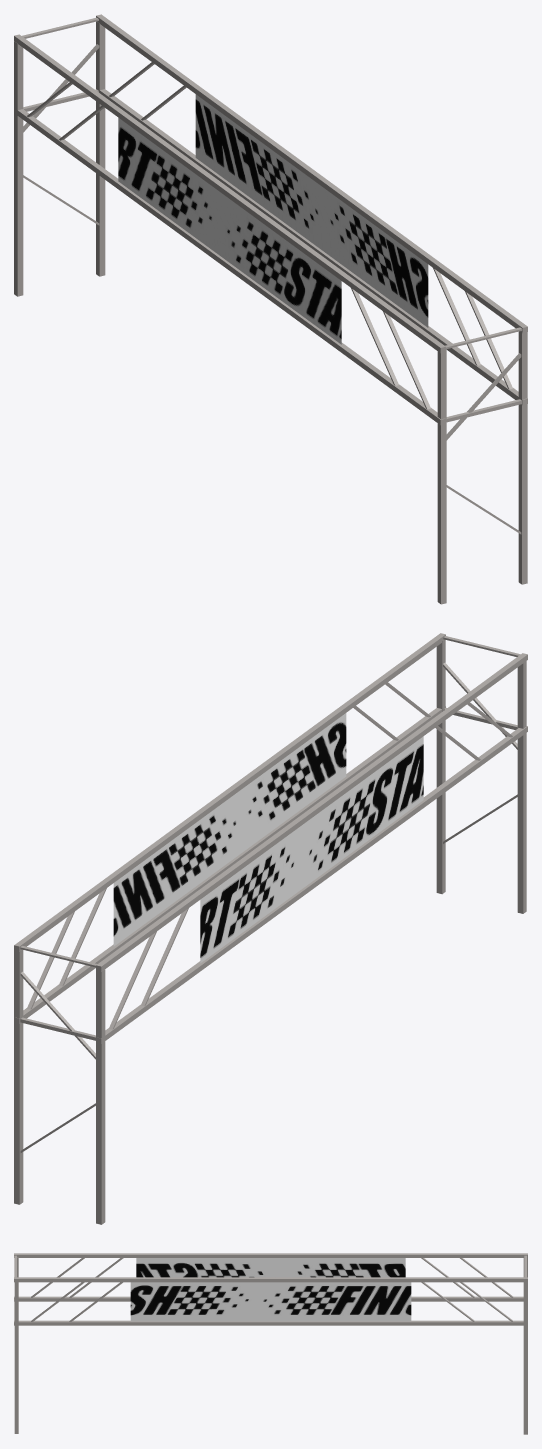
Rendered from meta_salida_proyecto_test.obj.
The picture shows the model from 3 angles, top to bottom: view 1: azimuth 30°, elevation 25°; view 2: azimuth 150°, elevation 25°; view 3: azimuth 270°, elevation 25°; orthographic projection. The views are drawn at different scales.
Visible parts, largest first — view 1: Plane.001_Steal_0, Plane.001_Finish_0, Plane.001_Start_0; view 2: Plane.001_Steal_0, Plane.001_Finish_0, Plane.001_Start_0; view 3: Plane.001_Steal_0, Plane.001_Finish_0, Plane.001_Start_0.
Boxes of the visible parts, left/top/right/bottom form: Plane.001_Steal_0: left=14, top=14, right=527, bottom=604; Plane.001_Finish_0: left=195, top=94, right=428, bottom=327; Plane.001_Start_0: left=118, top=118, right=341, bottom=344; Plane.001_Steal_0: left=14, top=633, right=527, bottom=1224; Plane.001_Finish_0: left=113, top=713, right=346, bottom=946; Plane.001_Start_0: left=200, top=736, right=423, bottom=963; Plane.001_Steal_0: left=14, top=1253, right=527, bottom=1434; Plane.001_Finish_0: left=130, top=1282, right=411, bottom=1321; Plane.001_Start_0: left=136, top=1258, right=405, bottom=1277.
Bounding box in the file's own units: 2.83 × 7.95 × 23.8.
